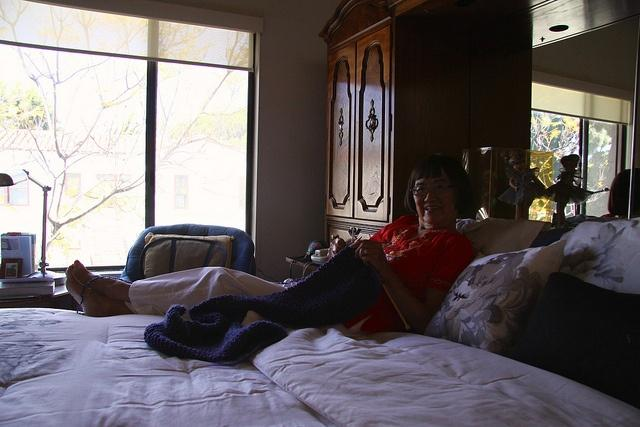Lemari: (322, 1, 393, 252)
